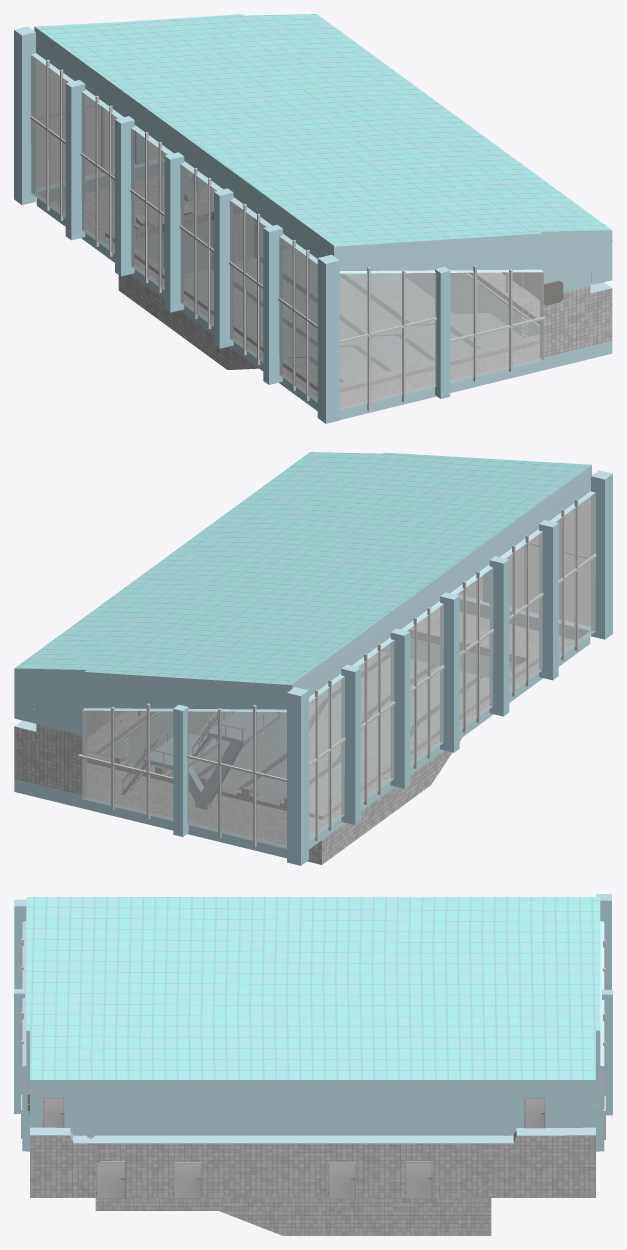
The model's file is pool.glb.
The picture shows the model from 3 angles, top to bottom: view 1: azimuth 30°, elevation 25°; view 2: azimuth 150°, elevation 25°; view 3: azimuth 270°, elevation 25°; orthographic projection. The views are drawn at different scales.
Parts seen in each view (by area): view 1: m_ceiling, m_glass, m_wall-blue22, m_wall-blue3, m_tiles.001, m_water, m_tiles.002, m_silver_color.004, m_tiles.003, m_silver_color.005, m_blue_walls, m_tiles-black; view 2: m_ceiling, m_glass, m_wall-blue22, m_wall-blue3, m_tiles.001, m_water, m_silver_color.004, m_tiles.002, m_tiles.003, m_.007, m_silver_color.005, m_blue_walls (+2 smaller); view 3: m_ceiling, m_wall-blue22, m_tiles.003, m_tiles.002, m_door.001, m_blue_walls, m_wall-blue3, m_door, m_silver_color.005, m_.021, m_material_0.
Boxes of the visible parts, x1=… form: m_ceiling: x1=34, y1=14, x2=611, y2=246; m_glass: x1=31, y1=55, x2=543, y2=410; m_wall-blue22: x1=31, y1=26, x2=612, y2=419; m_wall-blue3: x1=14, y1=26, x2=339, y2=423; m_tiles.001: x1=50, y1=169, x2=539, y2=406; m_water: x1=135, y1=214, x2=539, y2=381; m_tiles.002: x1=118, y1=206, x2=539, y2=369; m_silver_color.004: x1=30, y1=59, x2=317, y2=401; m_tiles.003: x1=502, y1=272, x2=612, y2=357; m_silver_color.005: x1=36, y1=81, x2=545, y2=411; m_blue_walls: x1=135, y1=131, x2=543, y2=398; m_tiles-black: x1=163, y1=212, x2=479, y2=381; m_ceiling: x1=14, y1=452, x2=591, y2=684; m_glass: x1=82, y1=493, x2=595, y2=848; m_wall-blue22: x1=14, y1=465, x2=595, y2=858; m_wall-blue3: x1=287, y1=470, x2=612, y2=865; m_tiles.001: x1=87, y1=607, x2=574, y2=844; m_water: x1=102, y1=639, x2=519, y2=808; m_silver_color.004: x1=309, y1=499, x2=596, y2=840; m_tiles.002: x1=101, y1=629, x2=525, y2=864; m_tiles.003: x1=14, y1=711, x2=123, y2=795; m_.007: x1=143, y1=711, x2=280, y2=809; m_silver_color.005: x1=78, y1=519, x2=589, y2=847; m_blue_walls: x1=173, y1=571, x2=489, y2=836; m_ceiling: x1=26, y1=897, x2=600, y2=1079; m_wall-blue22: x1=22, y1=921, x2=604, y2=1151; m_tiles.003: x1=30, y1=1135, x2=595, y2=1197; m_tiles.002: x1=95, y1=1198, x2=491, y2=1235; m_door.001: x1=96, y1=1161, x2=432, y2=1198; m_blue_walls: x1=14, y1=989, x2=612, y2=1151; m_wall-blue3: x1=14, y1=894, x2=611, y2=989; m_door: x1=96, y1=1097, x2=545, y2=1162; m_silver_color.005: x1=21, y1=939, x2=605, y2=1139; m_.021: x1=43, y1=1097, x2=64, y2=1127; m_material_0: x1=29, y1=1089, x2=596, y2=1089.
Bounding box in the file's own units: 42.59 × 31.41 × 77.7.
28 materials, 10 textured.
